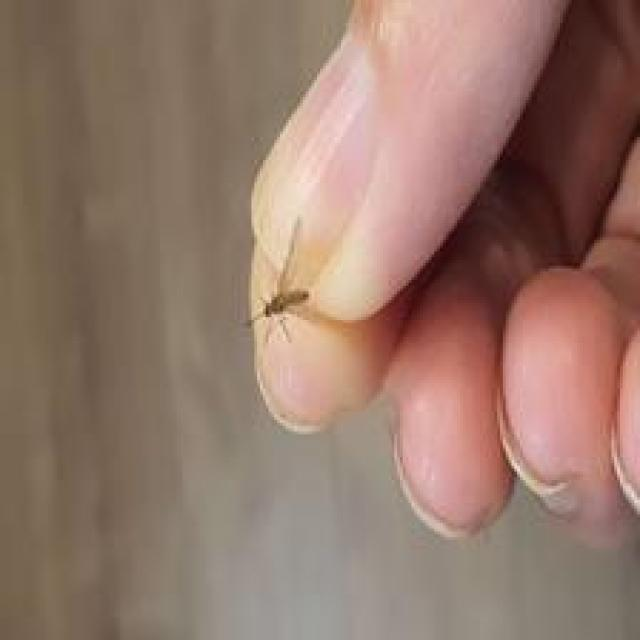Culex: (243, 216, 311, 344)
